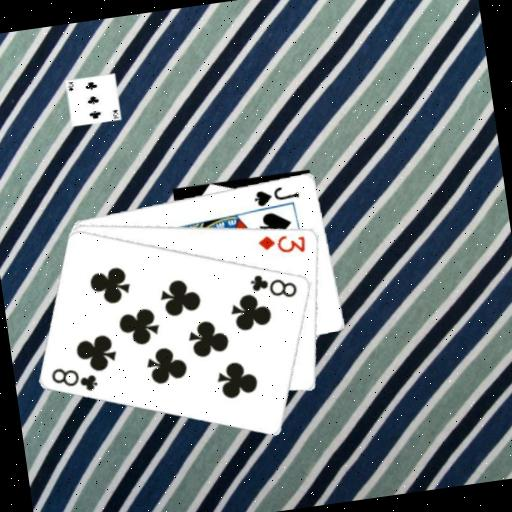3D: (254, 227, 309, 260)
8C: (48, 360, 102, 399), (247, 267, 301, 305)
JS: (250, 180, 302, 208)
